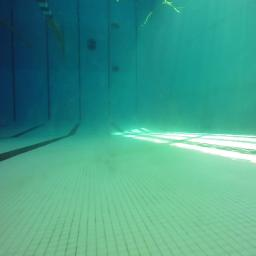Full: (87, 44, 96, 50), (111, 66, 120, 72)
